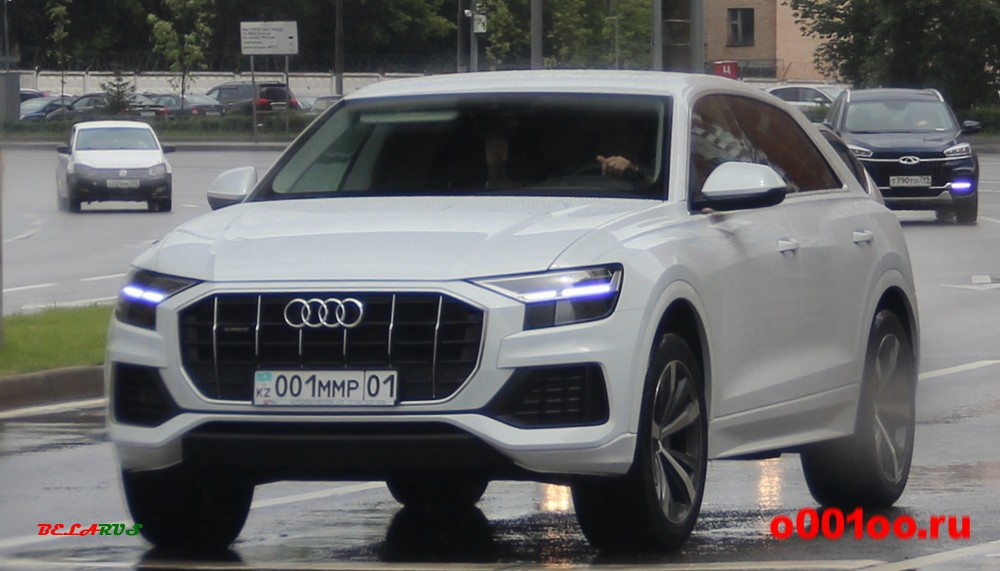license_plate: (251, 367, 411, 410)
